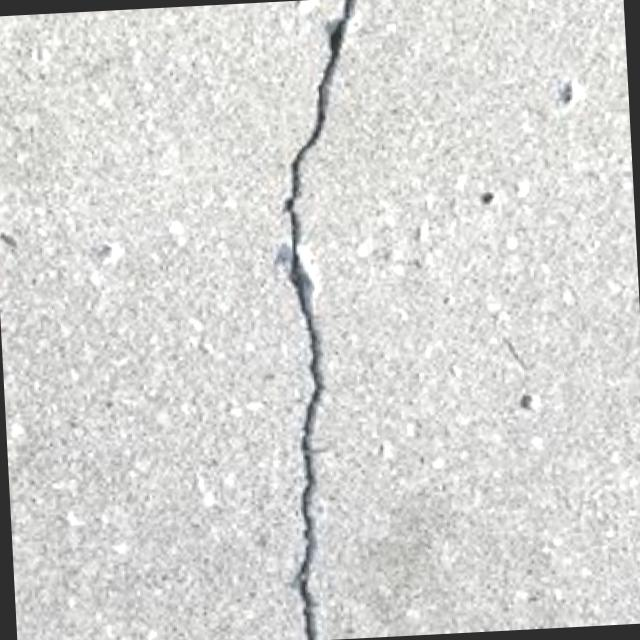crack: (256, 0, 391, 640)
